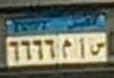6: (45, 38, 57, 59), (22, 38, 32, 61), (10, 40, 20, 62), (33, 38, 43, 59)
alif: (77, 36, 86, 57)
meem: (60, 40, 74, 58)
seen: (90, 40, 106, 56)
